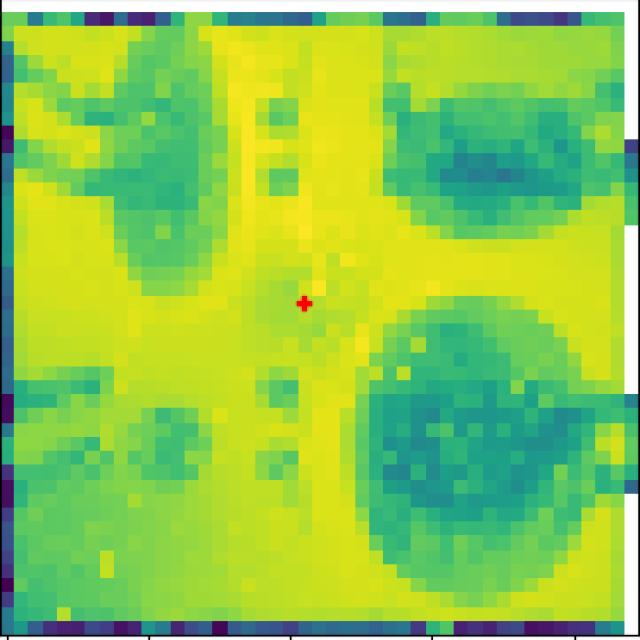Concrete: (123, 399, 217, 495)
Glass: (372, 326, 573, 570)
Metal: (111, 42, 226, 280)
Wood: (406, 97, 592, 227)
